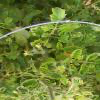Tomato leaf yellow virus: (49, 6, 67, 25), (40, 72, 67, 81), (58, 23, 81, 33), (19, 78, 38, 90), (69, 48, 84, 62), (86, 50, 100, 61), (62, 46, 87, 52), (40, 61, 56, 70), (2, 17, 14, 28), (78, 63, 88, 76), (40, 23, 56, 31), (60, 75, 69, 86), (32, 40, 46, 46), (55, 42, 63, 52), (69, 66, 77, 76)
